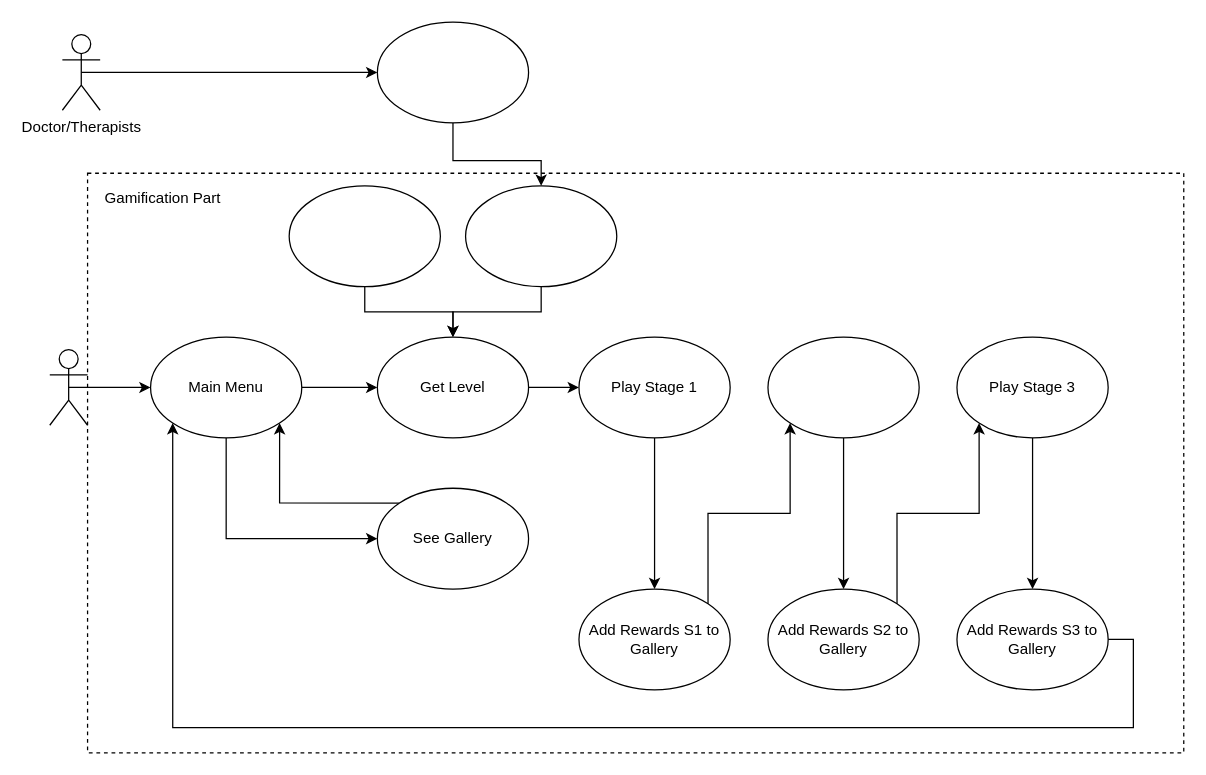
Image size: 1206x775. Some labels were removed from this diagram. Each missing label, with the centre of its shape:
"Get Prepared Level" goes at (540,236).
"Get Preset Level" goes at (364,236).
"Play Stage 2" goes at (843,387).
"Prepare Level" goes at (452,72).
"User" goes at (68,386).
